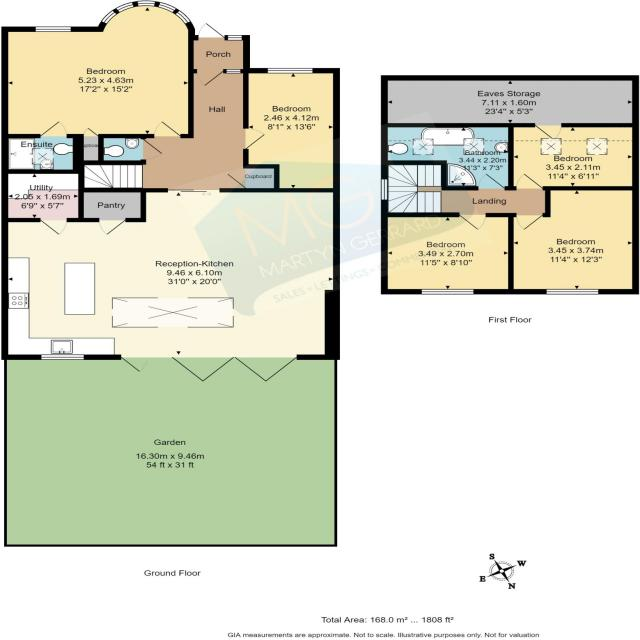DOOR: (515, 172, 545, 191), (458, 212, 487, 231), (533, 123, 563, 141), (39, 120, 68, 138), (243, 128, 266, 150), (140, 138, 163, 160), (196, 69, 224, 87), (515, 213, 544, 230), (477, 173, 505, 190), (39, 218, 67, 235), (98, 218, 126, 235), (153, 121, 181, 138)
ROOM: (1, 188, 341, 384), (1, 0, 196, 138), (508, 186, 639, 295), (243, 68, 340, 193), (381, 212, 514, 295), (508, 123, 639, 191)
WINDOW: (545, 288, 599, 295), (420, 288, 474, 295), (267, 68, 313, 74), (41, 354, 85, 360), (100, 10, 118, 24), (174, 10, 191, 24), (158, 1, 177, 13), (35, 26, 72, 32), (115, 2, 135, 13), (380, 179, 389, 200), (137, 0, 156, 7), (226, 69, 241, 74)
